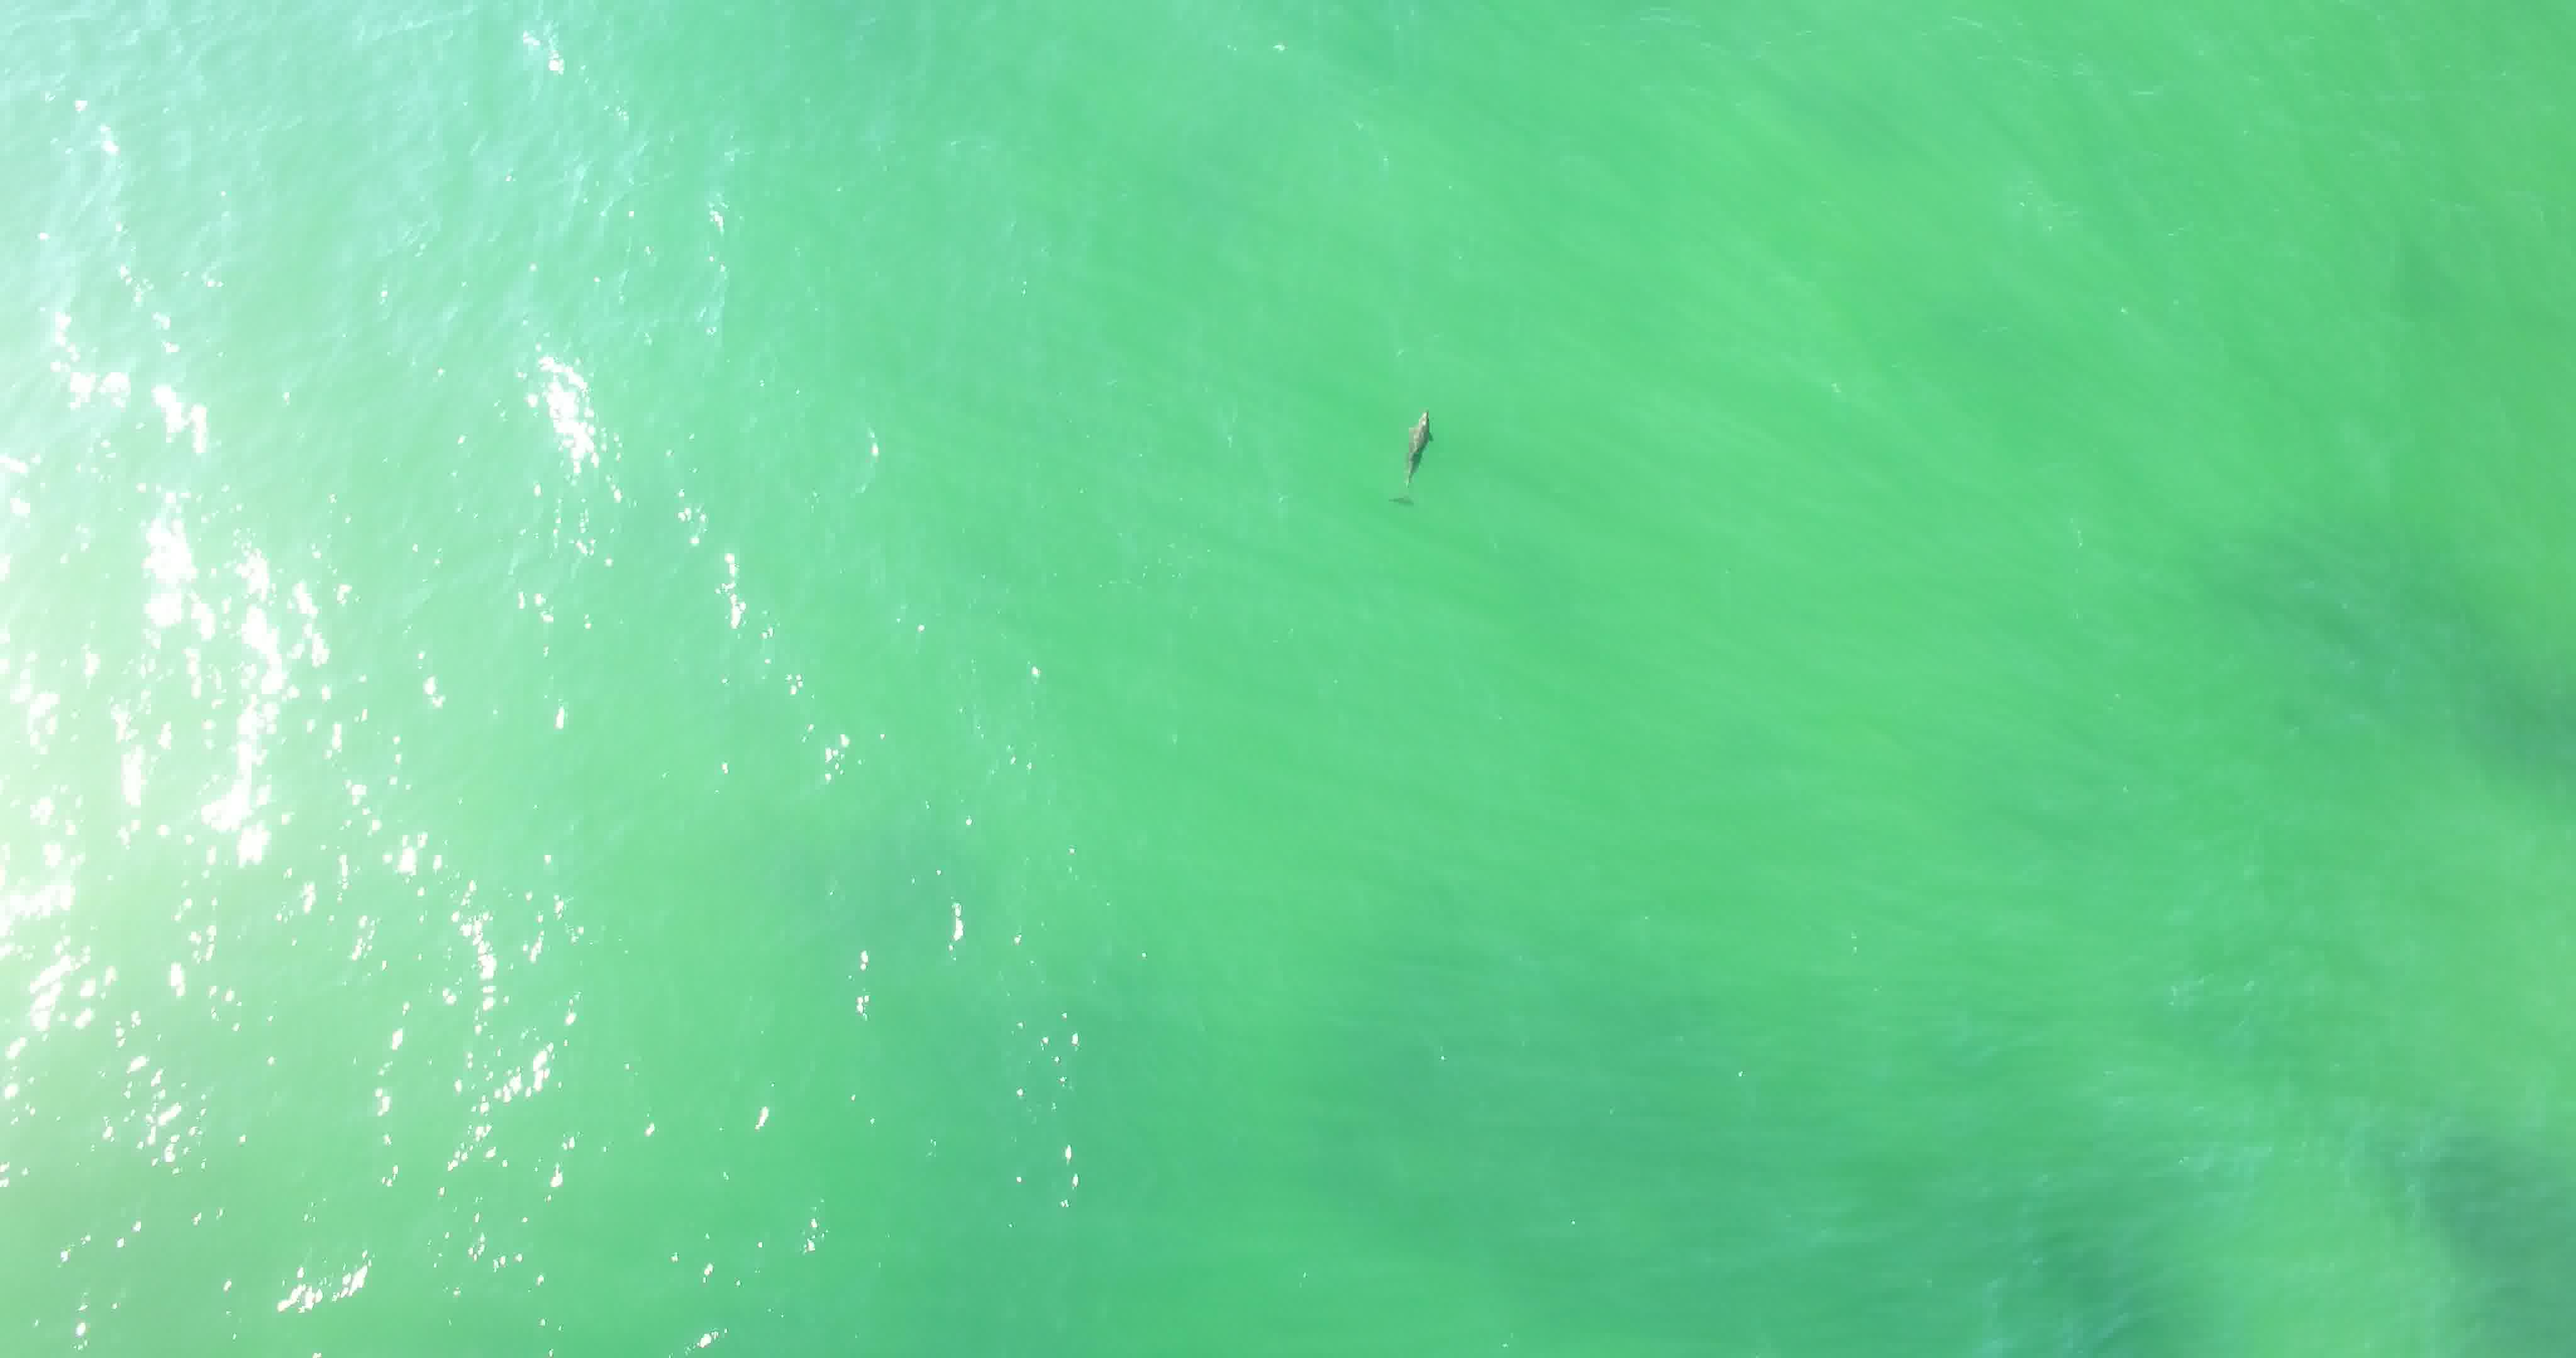dolphin: (1361, 377, 1479, 537)
